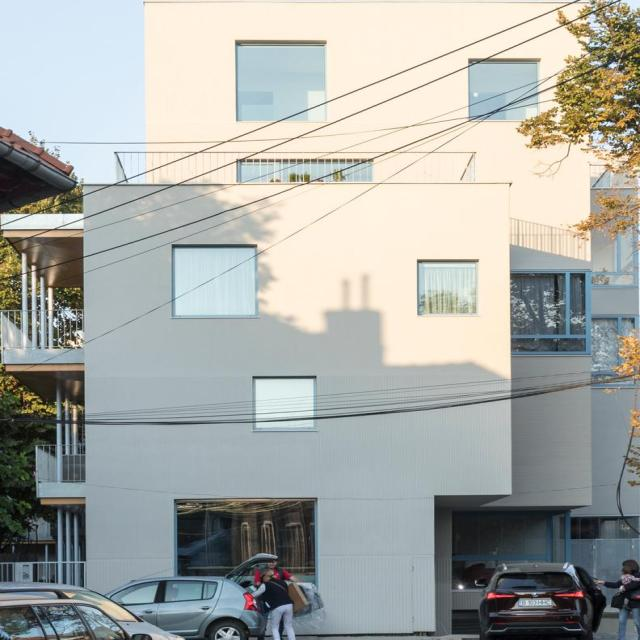Railing: (116, 152, 478, 182), (4, 308, 86, 348), (40, 443, 86, 480)
plant: (517, 1, 639, 239), (0, 373, 57, 543), (0, 237, 83, 306), (0, 186, 82, 215), (614, 330, 639, 383)
wall: (2, 0, 592, 636)
windows: (177, 503, 317, 584), (452, 511, 555, 588), (239, 41, 324, 119), (172, 245, 258, 316), (513, 273, 590, 352), (472, 62, 538, 122), (420, 260, 478, 314), (256, 378, 314, 431)
